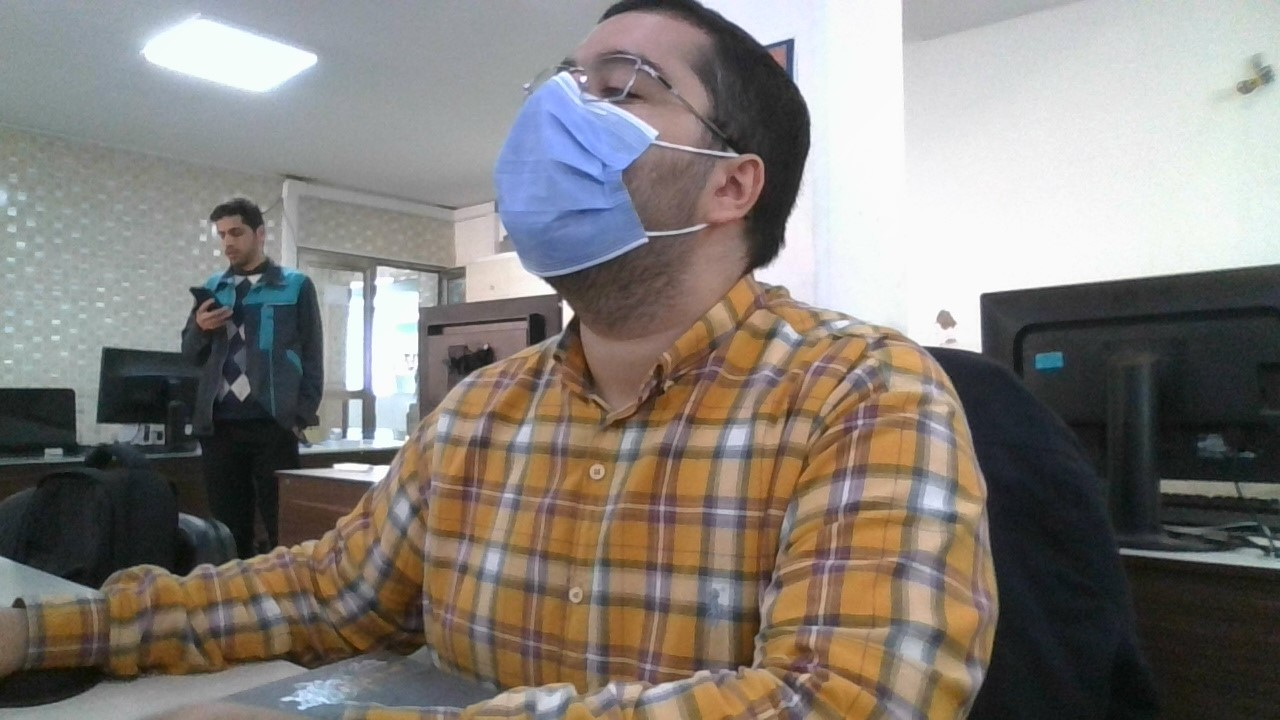Mask: (495, 69, 719, 281)
